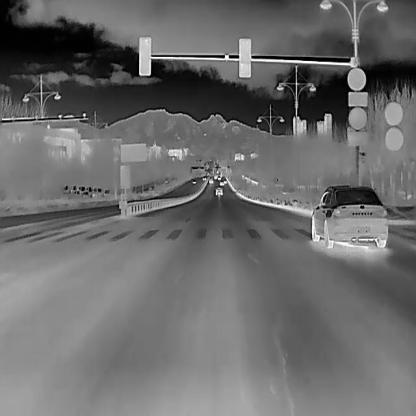car: (310, 183, 387, 247), (215, 186, 223, 195), (191, 178, 196, 183), (208, 178, 213, 183), (219, 180, 224, 185), (202, 175, 206, 180), (223, 179, 227, 183), (217, 175, 220, 180)
crosswalk: (17, 219, 309, 252)
